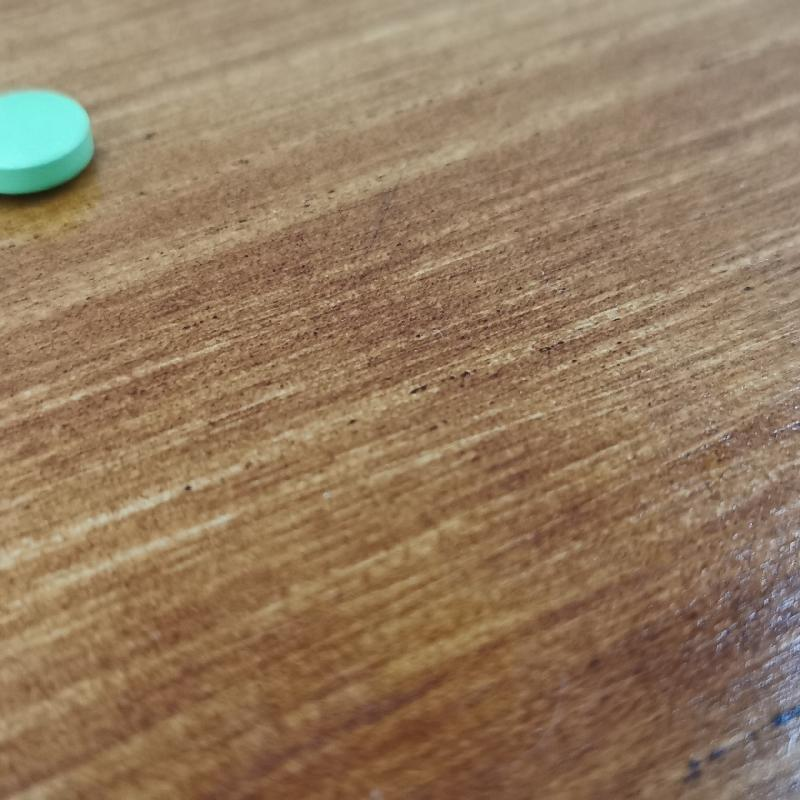pills: (3, 70, 106, 212)
